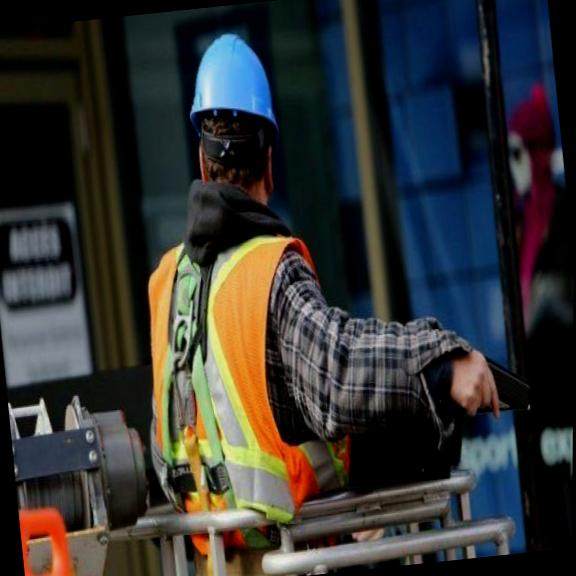safety_vest: (134, 226, 347, 528)
